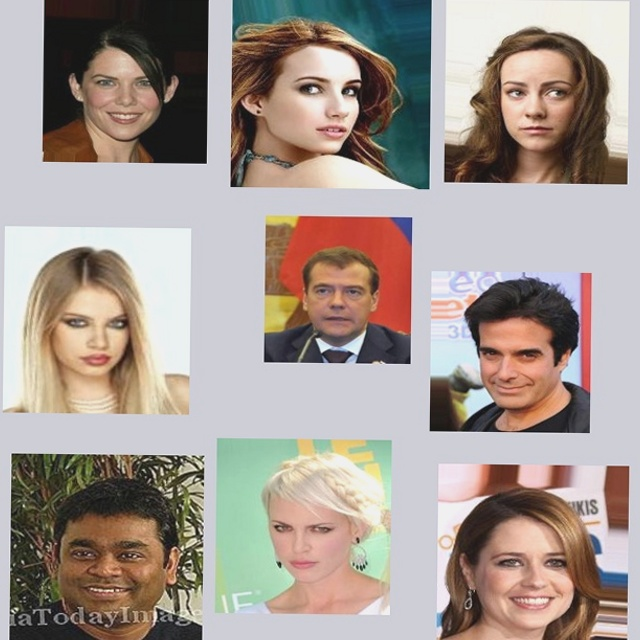celeb_10002: (3, 232, 191, 420)
celeb_2336: (430, 267, 592, 429)
celeb_2619: (263, 215, 412, 364)
celeb_2970: (225, 0, 426, 189)
celeb_4422: (439, 0, 624, 179)
celeb_4428: (442, 459, 635, 640)
celeb_5695: (37, 2, 203, 168)
celeb_7: (15, 458, 210, 640)
celeb_797: (220, 438, 397, 615)
